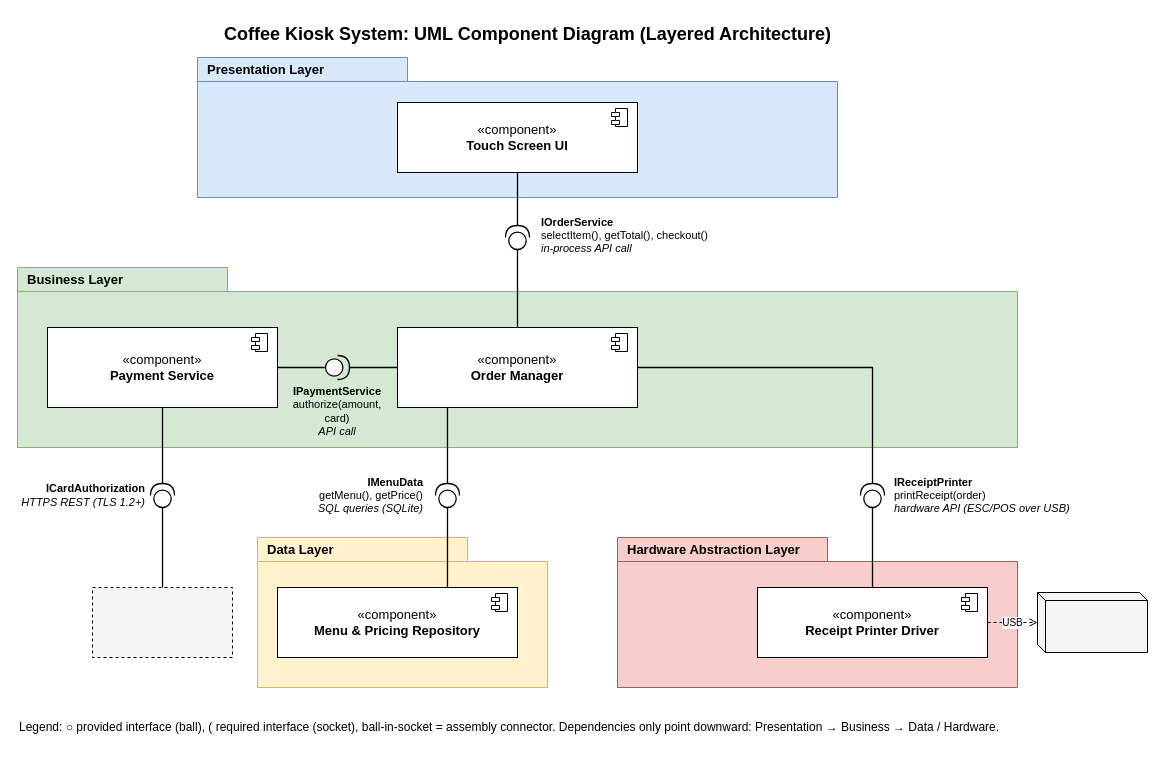
This 1165x764 diagram has some shape labels left out. Each missing label, with the centre of its shape:
"«device» Thermal Receipt Printer" goes at point (1092, 622).
"«external system» Card Payment Gateway" goes at point (162, 622).
